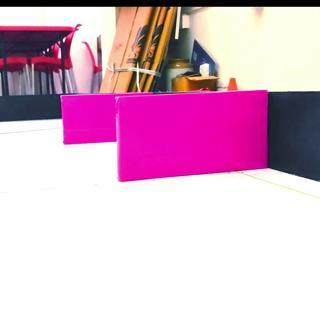xparking: (119, 95, 265, 172), (62, 93, 115, 141)
